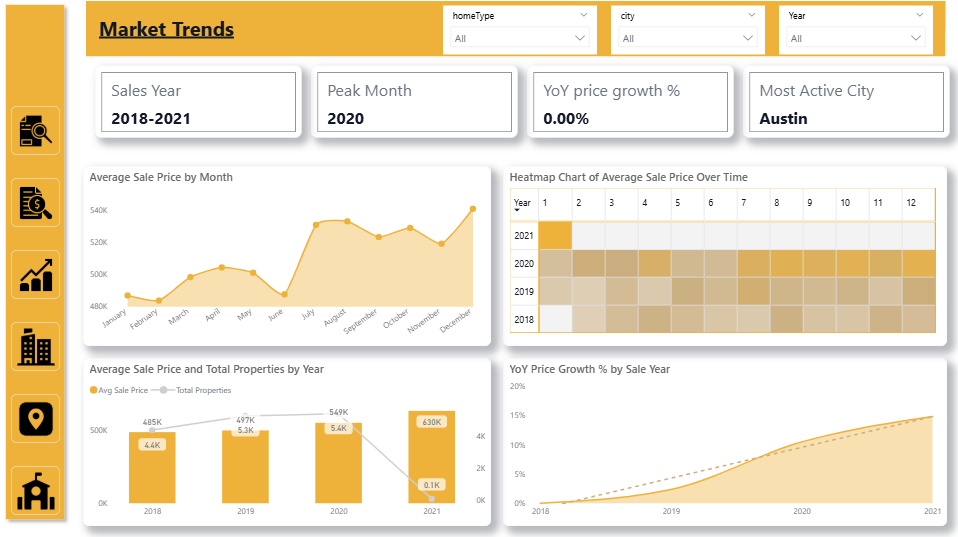

The page's visual inventory and layout, read from the dashboard file:
{"tool":"powerbi","page":{"name":"Market Trends","canvas":[1280,720],"ordinal":2},"visuals":[{"type":"cardVisual","fields":{"Data":["Measure.Sales Year"]},"box":[127.3,90,275,96],"z":0},{"type":"cardVisual","fields":{"Data":["Measure.Peak Month"]},"box":[415.3,90,275,96],"z":1000},{"type":"cardVisual","fields":{"Data":["Measure.YoY price growth"]},"box":[703.3,90,275,96],"z":2000},{"type":"cardVisual","fields":{"Data":["Measure.Most Active City"]},"box":[991.3,90,275,96],"z":3000},{"type":"areaChart","title":"Average Sale Price by Month","fields":{"Category":["Fact_Housing.latest_saledate.Variation.Date Hierarchy.Month"],"Y":["Measure.Avg Sale Price"]},"box":[112,224,544,240],"z":4000},{"type":"lineClusteredColumnComboChart","title":"Average Sale Price and Total Properties by Year","fields":{"Category":["Fact_Housing.latest_saledate.Variation.Date Hierarchy.Year"],"Y":["Measure.Avg Sale Price"],"Y2":["Measure.Total Properties"]},"box":[112,480,544,224],"z":5000},{"type":"pivotTable","title":"Heatmap Chart of Average Sale Price Over Time","fields":{"Rows":["Fact_Housing.latest_saledate.Variation.Date Hierarchy.Year"],"Values":["Measure.Avg Sale Price"],"Columns":["Fact_Housing.latest_salemonth"]},"box":[672,224,592,240],"z":6000},{"type":"areaChart","title":"YoY Price Growth % by Sale Year","fields":{"Category":["Fact_Housing.latest_saleyear"],"Y":["Measure.YoY price growth %"]},"box":[672,480,592,224],"z":7000},{"type":"shape","box":[0,0,96,704],"z":8000},{"type":"image","box":[16,144,65,65],"z":9000},{"type":"image","box":[16,240,65,65],"z":10000},{"type":"image","box":[16,336,65,65],"z":11000},{"type":"image","box":[16,432,65,65],"z":12000},{"type":"image","box":[16,528,65,65],"z":13000},{"type":"image","box":[16,624,65,65],"z":14000},{"type":"shape","box":[112,0,1152,80],"z":15000},{"type":"slicer","fields":{"Values":["Fact_Housing.latest_saledate.Variation.Date Hierarchy.Year"]},"box":[1040,10,205,65],"z":16000},{"type":"slicer","fields":{"Values":["Dim_Location.city"]},"box":[816,10,205,65],"z":17000},{"type":"slicer","fields":{"Values":["Dim_House_Details.homeType"]},"box":[592,10,205,65],"z":18000},{"type":"textbox","title":"Executive Overview","box":[128,16,256,64],"z":18001}]}

Visuals, with their boxes on the page's 1280x720 design canvas (x1, y1, x2, y2). These are canvas units, not pixel positions in the 958x537 screenshot, which may show the page scaled, cropped or inside an application window:
cardVisual - Measure.Sales Year: [left=127, top=90, right=402, bottom=186]
cardVisual - Measure.Peak Month: [left=415, top=90, right=690, bottom=186]
cardVisual - Measure.YoY price growth: [left=703, top=90, right=978, bottom=186]
cardVisual - Measure.Most Active City: [left=991, top=90, right=1266, bottom=186]
"Average Sale Price by Month" areaChart: [left=112, top=224, right=656, bottom=464]
"Average Sale Price and Total Properties by Year" lineClusteredColumnComboChart: [left=112, top=480, right=656, bottom=704]
"Heatmap Chart of Average Sale Price Over Time" pivotTable: [left=672, top=224, right=1264, bottom=464]
"YoY Price Growth % by Sale Year" areaChart: [left=672, top=480, right=1264, bottom=704]
shape: [left=0, top=0, right=96, bottom=704]
image: [left=16, top=144, right=81, bottom=209]
image: [left=16, top=240, right=81, bottom=305]
image: [left=16, top=336, right=81, bottom=401]
image: [left=16, top=432, right=81, bottom=497]
image: [left=16, top=528, right=81, bottom=593]
image: [left=16, top=624, right=81, bottom=689]
shape: [left=112, top=0, right=1264, bottom=80]
slicer - Fact_Housing.latest_saledate.Variation.Date Hierarchy.Year: [left=1040, top=10, right=1245, bottom=75]
slicer - Dim_Location.city: [left=816, top=10, right=1021, bottom=75]
slicer - Dim_House_Details.homeType: [left=592, top=10, right=797, bottom=75]
"Executive Overview" textbox: [left=128, top=16, right=384, bottom=80]
